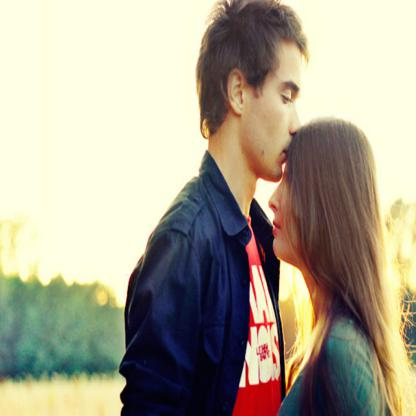face: (252, 32, 304, 185), (270, 133, 328, 262)
